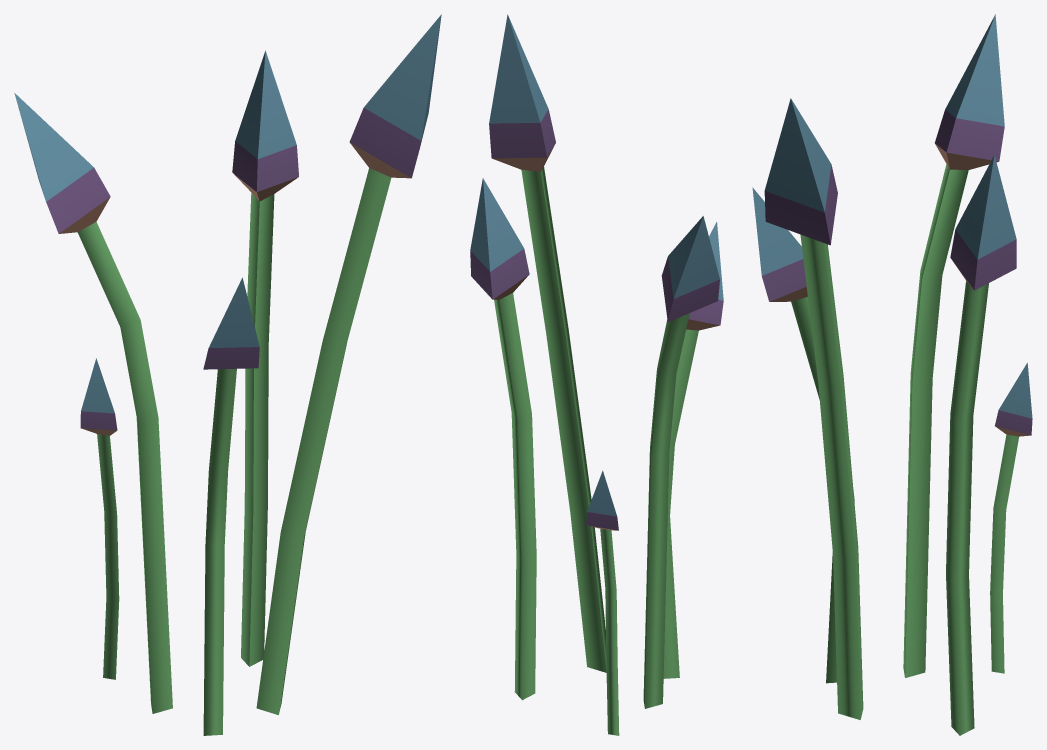
Rendered from Flowers_3.fbx.
3 views of the same model, side by side, from view 1: azimuth 30°, elevation 25°; view 2: azimuth 150°, elevation 25°; view 3: azimuth 270°, elevation 25° (orthographic). The views are drawn at different scales.
Visible parts, largest first — view 1: Flowers_3; view 2: Flowers_3; view 3: Flowers_3.
Boxes of the visible parts, x1,y1,x2,y2 form: Flowers_3: [14, 14, 441, 735]; Flowers_3: [470, 14, 723, 735]; Flowers_3: [752, 14, 1032, 735].
Size of the model in its own units: 46.93 by 93.39 by 34.69.
